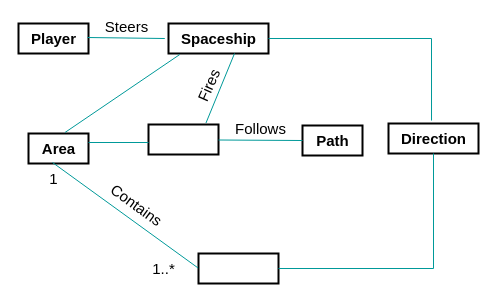
This 496x302 diagram has some shape labels left out. The centre of each missing label's shape, as x and y in pixels:
"Asteroid" belongs at (238,268).
"Missile" belongs at (183,139).
